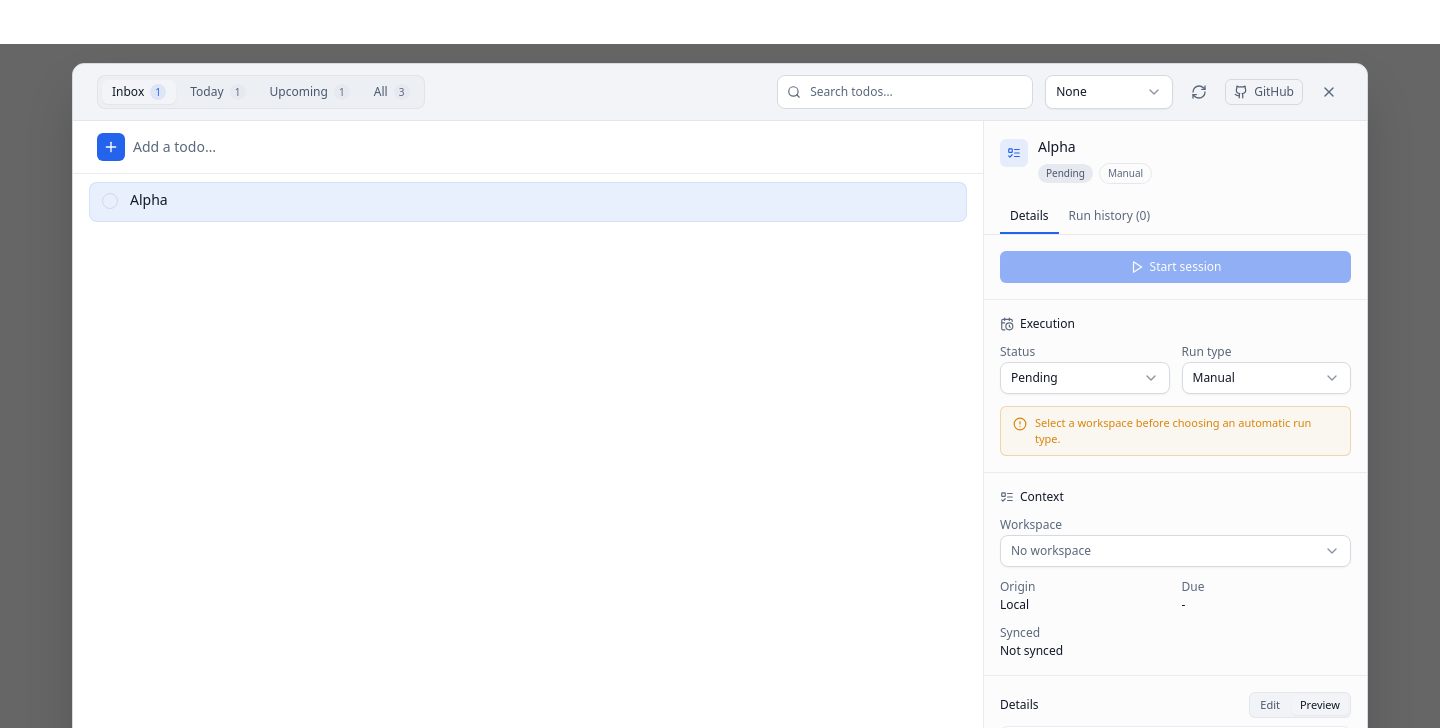
Test: TodosPanel — header restructure and rail removal (U1) › renders four view segments with counts and switching updates the list
expect the text "Alpha" is shown: met, box [130,190,168,208]
expect the tab "Inbox 1" is shown: met, box [102,80,176,104]
Click the tab "All 3": (392, 92) [364,80,420,104]
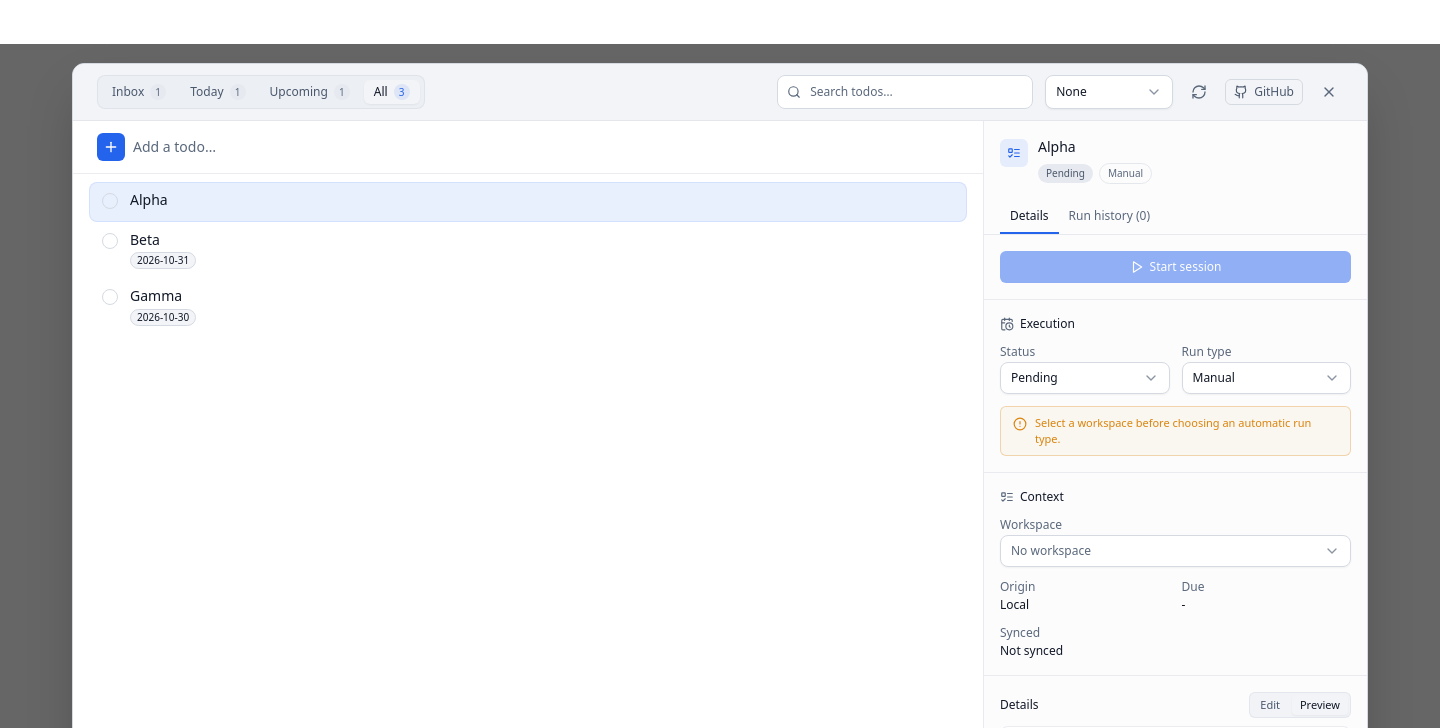
expect the text "Alpha" is shown 3 times: met, box [130,190,168,208]; [130,230,160,248]; [130,287,182,304]
